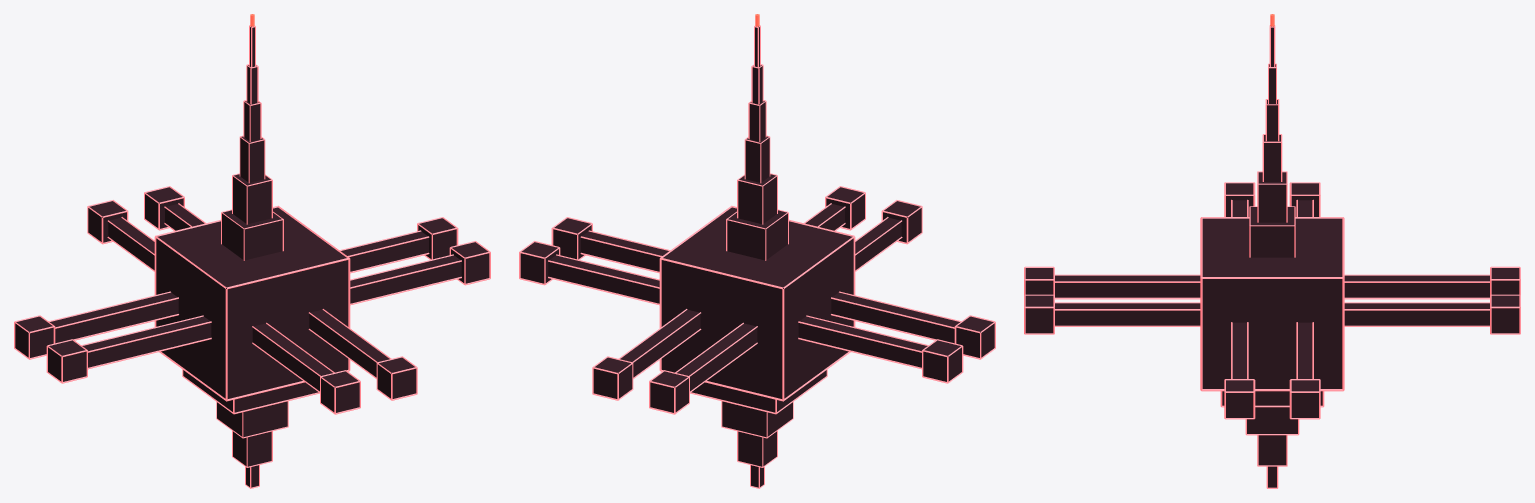
File: red_command_station.glb
3 renders of one model, left to right at view 1: azimuth 30°, elevation 25°; view 2: azimuth 150°, elevation 25°; view 3: azimuth 270°, elevation 25°, orthographic.
Visible parts, largest first — view 1: Red station | command hub, RedCommandStation_ROOT | red physical edge accents, Red station | perimeter arm.005, Red station | perimeter arm.004, Red station | perimeter arm, Red station | stepped communications mast, Red station | perimeter arm.006, Red station | perimeter arm.007, Red station | perimeter arm.001, Red station | lower spine, Red station | stepped communications mast.001, Red station | lower collar (+13 smaller); view 2: Red station | command hub, RedCommandStation_ROOT | red physical edge accents, Red station | perimeter arm.004, Red station | perimeter arm.005, Red station | perimeter arm.001, Red station | stepped communications mast, Red station | perimeter arm.003, Red station | perimeter arm.002, Red station | perimeter arm, Red station | lower spine, Red station | stepped communications mast.001, Red station | lower collar (+13 smaller); view 3: Red station | command hub, RedCommandStation_ROOT | red physical edge accents, Red station | perimeter arm.002, Red station | perimeter arm.007, Red station | perimeter arm.003, Red station | perimeter arm.006, Red station | stepped communications mast, Red station | stepped communications mast.001, Red station | lower spine, Red station | arm node.002, Red station | arm node.007, Red station | arm node (+10 smaller).
Part boxes in pixels (x1,y1,x2,y2): Red station | command hub: (156, 207, 348, 398); RedCommandStation_ROOT | red physical edge accents: (14, 25, 490, 488); Red station | perimeter arm.005: (82, 316, 211, 367); Red station | perimeter arm.004: (50, 292, 178, 343); Red station | perimeter arm: (350, 255, 461, 303); Red station | stepped communications mast: (222, 210, 282, 260); Red station | perimeter arm.006: (252, 323, 332, 391); Red station | perimeter arm.007: (309, 309, 389, 377); Red station | perimeter arm.001: (341, 231, 428, 271); Red station | lower spine: (217, 401, 287, 437); Red station | stepped communications mast.001: (233, 174, 271, 223); Red station | lower collar: (183, 370, 318, 412); Red station | command hub: (661, 207, 853, 398); RedCommandStation_ROOT | red physical edge accents: (519, 25, 995, 488); Red station | perimeter arm.004: (798, 316, 927, 367); Red station | perimeter arm.005: (831, 292, 959, 343); Red station | perimeter arm.001: (548, 255, 659, 303); Red station | stepped communications mast: (727, 210, 787, 260); Red station | perimeter arm.003: (677, 323, 757, 391); Red station | perimeter arm.002: (620, 309, 700, 377); Red station | perimeter arm: (581, 231, 668, 271); Red station | lower spine: (722, 401, 792, 437); Red station | stepped communications mast.001: (738, 174, 776, 223); Red station | lower collar: (691, 370, 826, 412); Red station | command hub: (1202, 218, 1342, 388); RedCommandStation_ROOT | red physical edge accents: (1024, 25, 1520, 488); Red station | perimeter arm.002: (1344, 303, 1489, 325); Red station | perimeter arm.007: (1055, 303, 1200, 325); Red station | perimeter arm.003: (1344, 275, 1489, 297); Red station | perimeter arm.006: (1055, 275, 1200, 297); Red station | stepped communications mast: (1250, 207, 1294, 257); Red station | stepped communications mast.001: (1258, 172, 1286, 222); Red station | lower spine: (1247, 407, 1297, 433); Red station | arm node.002: (1491, 295, 1519, 333); Red station | arm node.007: (1025, 295, 1053, 333); Red station | arm node: (1226, 380, 1253, 417).
Bounding box in the file's own units: 6.14 × 6.43 × 6.14.
